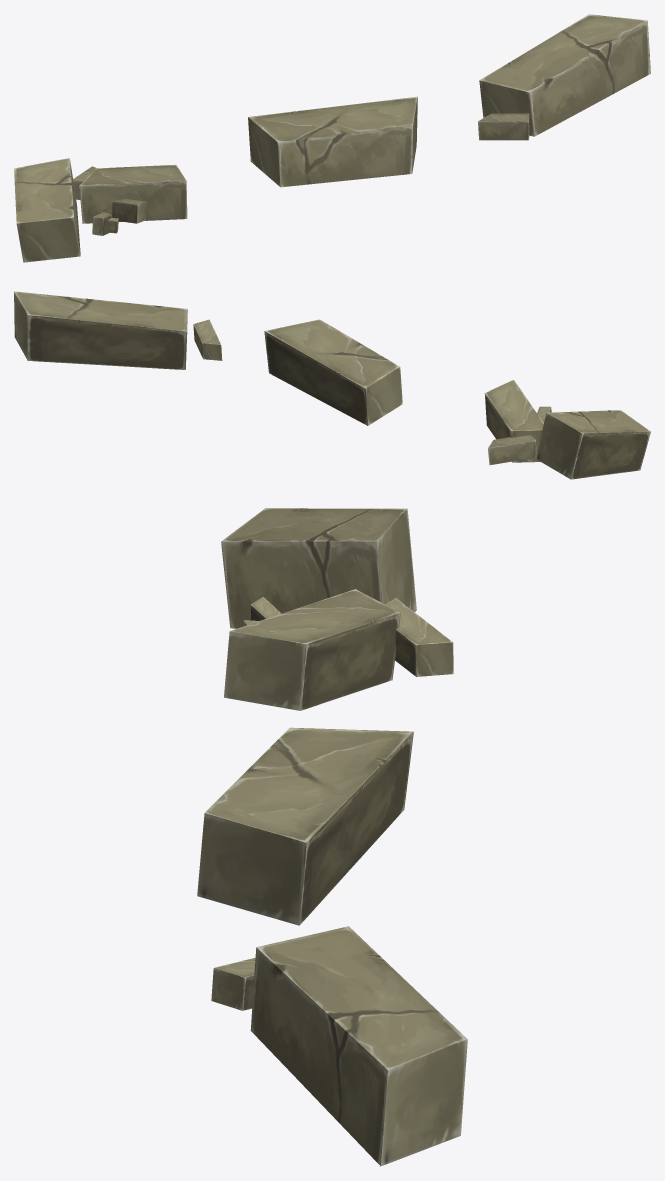
Rendered from wallrocks_base2.fbx.
3 views of the same model, one above another, from view 1: azimuth 30°, elevation 25°; view 2: azimuth 150°, elevation 25°; view 3: azimuth 270°, elevation 25° (orthographic). The views are drawn at different scales.
Visible parts, largest first — view 1: rocks4; view 2: rocks4; view 3: rocks4.
Part boxes in pixels (x1=…): rocks4: x1=14, y1=14, x2=650, y2=262; rocks4: x1=14, y1=291, x2=650, y2=479; rocks4: x1=197, y1=508, x2=467, y2=1166.
Size of the model in its own units: 2 by 0.1889 by 0.3859.
